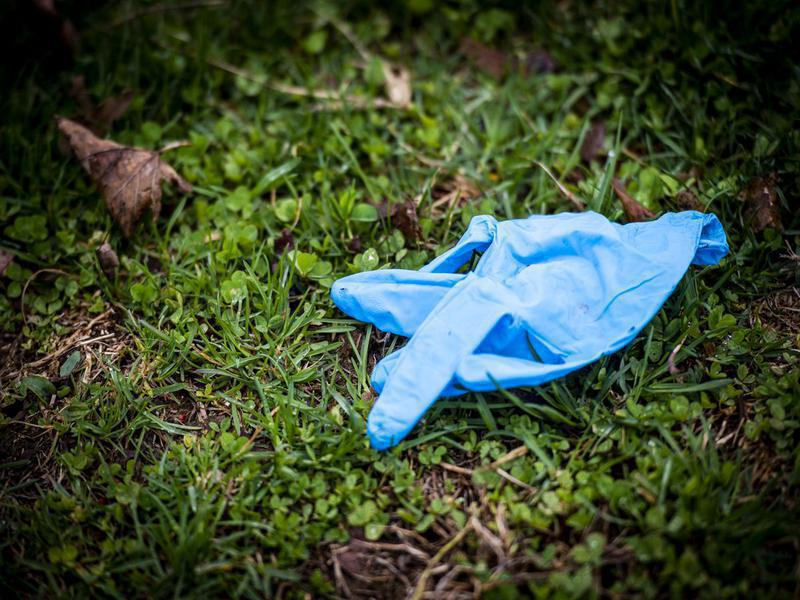gloves: (324, 206, 733, 456)
